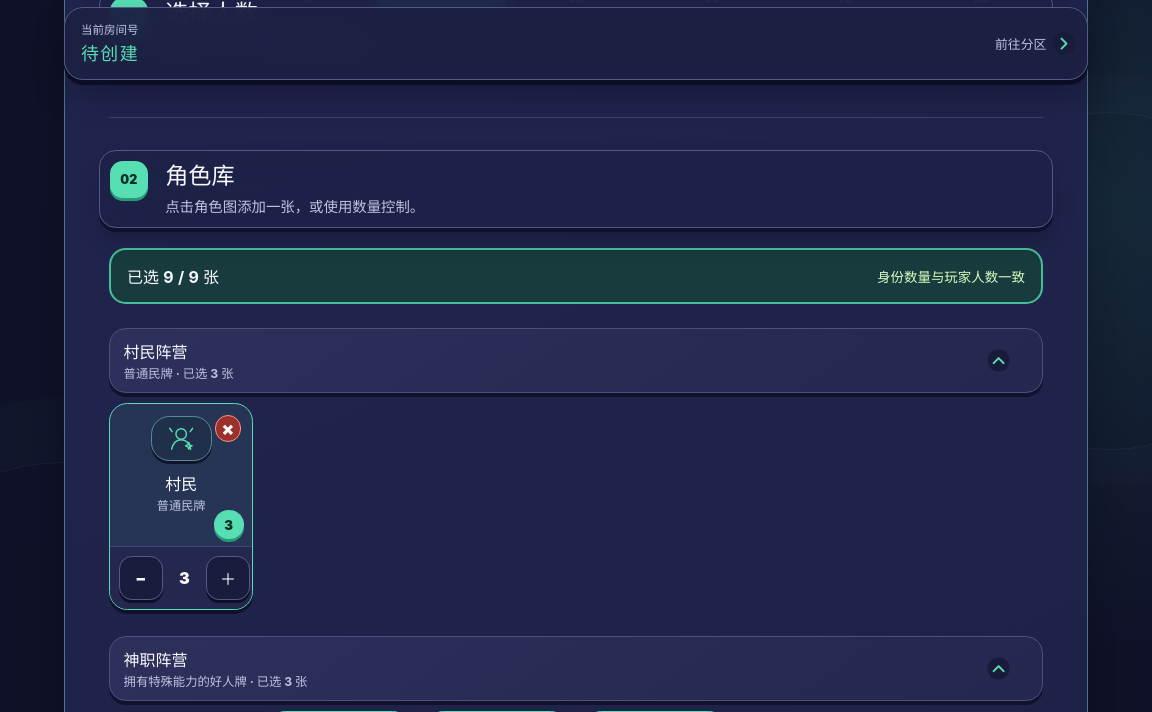
Test: 上帝 Mock 流程 › 角色阵营可以各自折叠和展开
(page scrolled)
Click the button "村民阵营 普通民牌 · 已选 3 张" at (156, 352), box [109,328,1043,393]
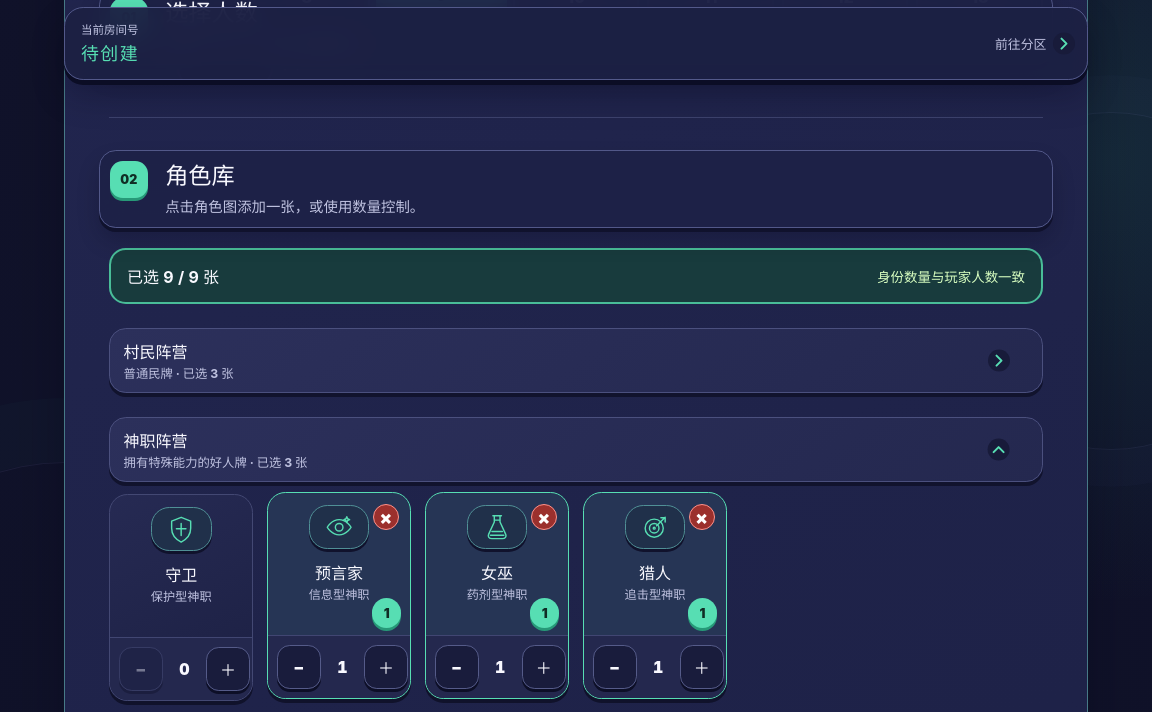
Expected: the button "村民阵营 普通民牌 · 已选 3 张" is collapsed
Expected: the button "添加一张村民" is gone
Click the button "村民阵营 普通民牌 · 已选 3 张" at (156, 352), box [109,328,1043,393]
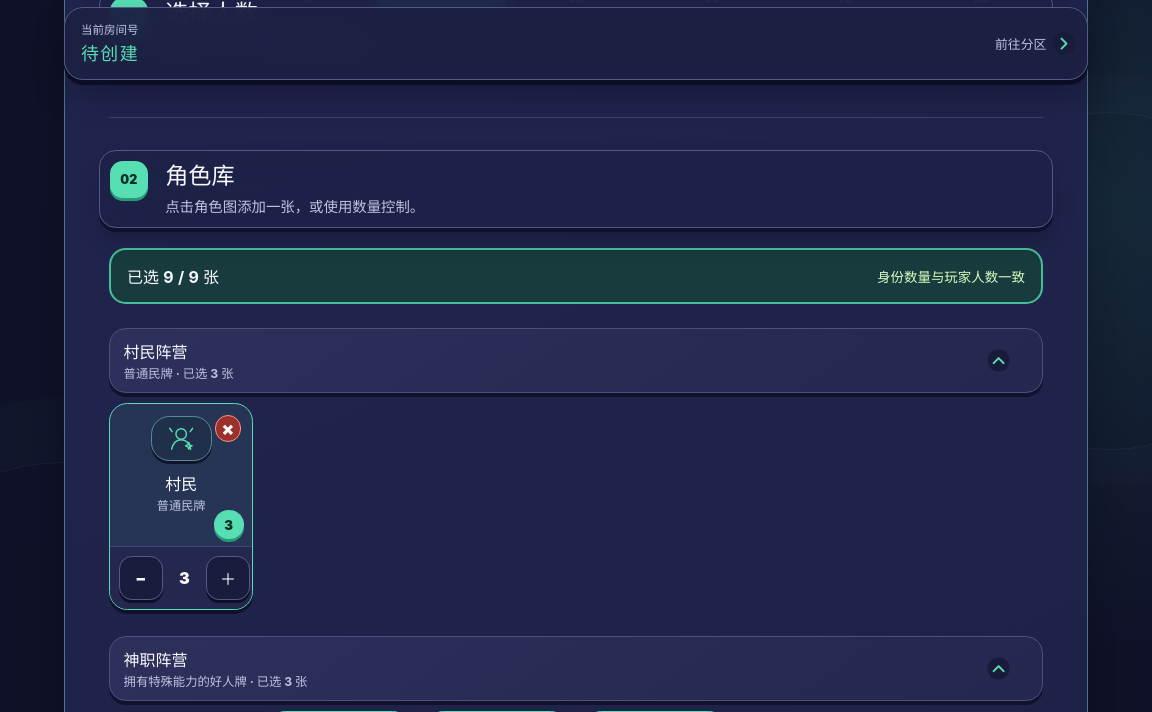
Expected: the button with aria-label "添加一张村民" is shown, [110,404,252,546]
